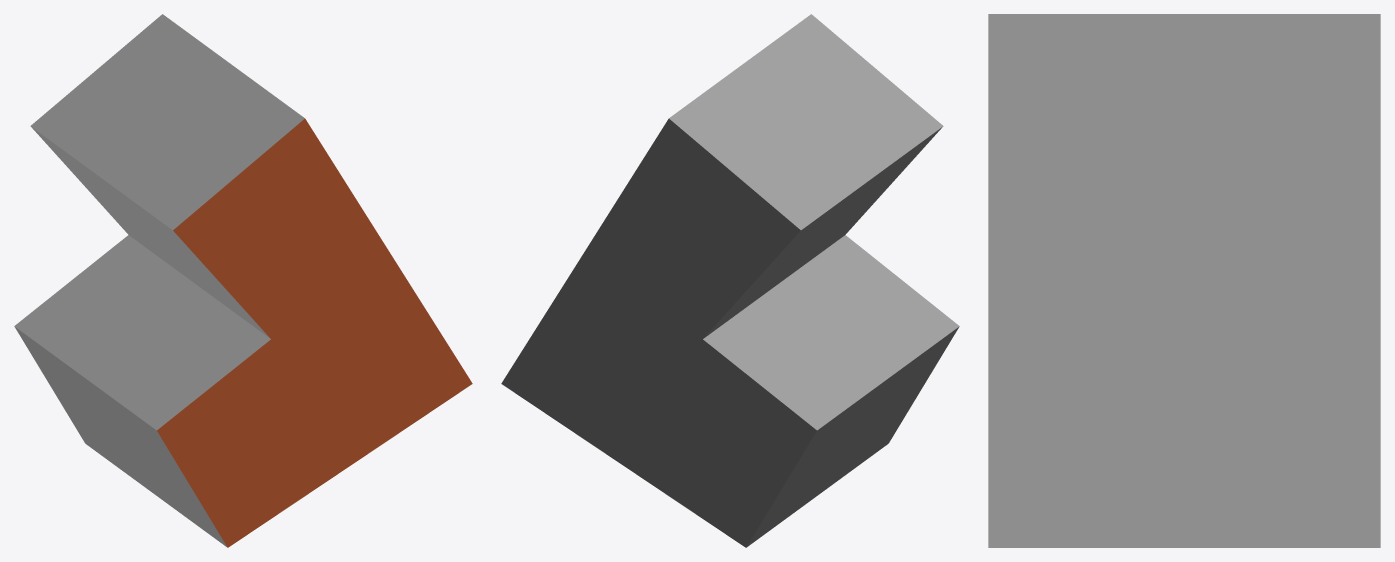
The model's file is construction_2709_assumed_A_Casa_h6m.obj.
The picture shows the model from 3 angles, left to right: view 1: azimuth 30°, elevation 25°; view 2: azimuth 150°, elevation 25°; view 3: azimuth 270°, elevation 25°; orthographic projection. The views are drawn at different scales.
Parts seen in each view (by area): view 1: construction_2709_assumed_A_Casa; view 2: construction_2709_assumed_A_Casa; view 3: construction_2709_assumed_A_Casa.
Boxes of the visible parts, box(x1,y1,x2,y2) form: construction_2709_assumed_A_Casa: box(14, 14, 472, 547); construction_2709_assumed_A_Casa: box(501, 14, 959, 547); construction_2709_assumed_A_Casa: box(988, 14, 1380, 547).
Size of the model in its own units: 7.68 by 9.53 by 6.
